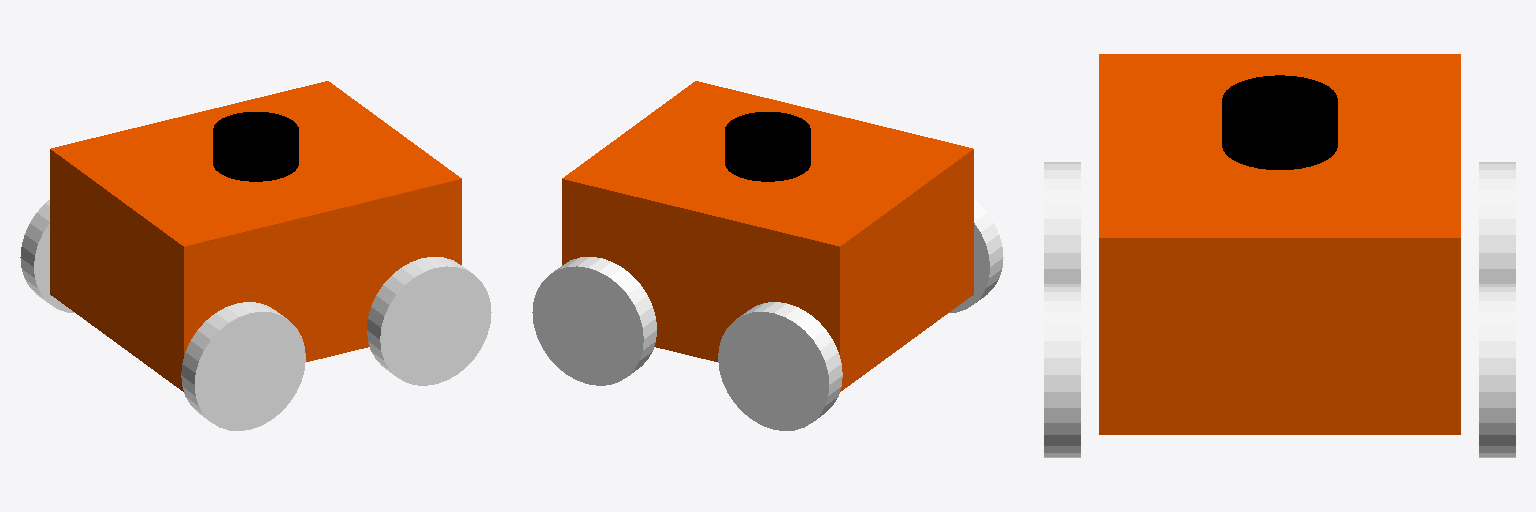
robot.urdf — abot:
<?xml version="1.0"?>
<robot name="abot"> 
<!--********************************xxxxxxxxx********************************-->
<!--********************************base_link********************************-->
	<link name="base_link">
		<visual>
		<origin xyz="0 0 0" rpy="0 0 0"/>
		<geometry>
			<box size="0.30 0.25 0.15"/>
		</geometry>
			<material name="yellow">
				<color rgba="1 0.4 0 0.5"/>
			</material>
		</visual>
	</link>
<!--********************************left_front_link********************************-->
	<link name="left_front_link">
		<visual>
			<origin xyz="0 0 0" rpy="1.5707 0 0"/>
			<geometry>
				<cylinder radius="0.06" length="0.025"/>
			</geometry>
			<material name="white">
				<color rgba="1 1 1 0.9"/>
			</material>
		</visual>
	</link>
	<joint name="left_front_joint" type="continuous">
		<origin xyz="0.10 0.15 -0.05" rpy="0 0 0"/>
		<parent link="base_link"/>
		<child link="left_front_link"/>
		<axis xyz="0 1 0"/>
	</joint>
<!--********************************left_back_link********************************-->
	<link name="left_back_link">
		<visual>
			<origin xyz="0 0 0" rpy="1.5707 0 0"/>
			<geometry>
				<cylinder radius="0.06" length="0.025"/>
			</geometry>
			<material name="white">
				<color rgba="1 1 1 0.9"/>
			</material>
		</visual>
	</link>
	<joint name="left_back_link" type="continuous">
		<origin xyz="-0.10 0.15 -0.05" rpy="0 0 0"/>
		<parent link="base_link"/>
		<child link="left_back_link"/>
		<axis xyz="0 1 0"/>
	</joint>
<!--********************************right_front_link********************************-->
	<link name="right_front_link">
		<visual>
			<origin xyz="0 0 0" rpy="1.5707 0 0"/>
			<geometry>
				<cylinder radius="0.06" length="0.025"/>
			</geometry>
			<material name="white">
				<color rgba="1 1 1 0.9"/>
			</material>
		</visual>
	</link>
	<joint name="right_front_link" type="continuous">
		<origin xyz="0.10 -0.15 -0.05" rpy="0 0 0"/>
		<parent link="base_link"/>
		<child link="right_front_link"/>
		<axis xyz="0 1 0"/>
	</joint>
<!--********************************right_back_link********************************-->
	<link name="right_back_link">
		<visual>
			<origin xyz="0 0 0" rpy="1.5707 0 0"/>
			<geometry>
				<cylinder radius="0.06" length="0.025"/>
			</geometry>
			<material name="white">
				<color rgba="1 1 1 0.9"/>
			</material>
		</visual>
	</link>
	<joint name="right_back_link" type="continuous">
		<origin xyz="-0.10 -0.15 -0.05" rpy="0 0 0"/>
		<parent link="base_link"/>
		<child link="right_back_link"/>
		<axis xyz="0 1 0"/>
	</joint>
<!--********************************laser_link********************************-->
	<link name="laser_link">
		<visual>
			<origin xyz="0 0 0" rpy="0 0 0"/>
			<geometry>
				<cylinder radius="0.04" length="0.040"/>
			</geometry>
			<material name="black">
				<color rgba="0 0 0 0.95"/>
			</material>
		</visual>
	</link>
<!--********************************laser_joint********************************-->
	<joint name="laser_joint" type="fixed">
		<origin xyz="0 0 0.09" rpy="0 0 0"/>
		<parent link="base_link"/>
		<child link="laser_link"/>
	</joint>

</robot>

--- Facts derived from the render (not from the file) ---
The picture shows the robot from 3 angles, left to right: view 1: azimuth 30°, elevation 25°; view 2: azimuth 150°, elevation 25°; view 3: azimuth 270°, elevation 25°; orthographic projection.
Robot: abot — 6 links, 5 joints (4 continuous, 1 fixed); root link base_link; default pose: all joints at 0.
Links seen in each view (by area): view 1: base_link, right_back_link, right_front_link, laser_link, left_back_link; view 2: base_link, left_back_link, left_front_link, laser_link, right_back_link; view 3: base_link, laser_link, left_front_link, right_front_link, left_back_link, right_back_link.
Boxes of the visible links, x1,y1,x2,y2 form: base_link: (50,81,461,391); right_back_link: (181,302,305,430); right_front_link: (367,257,491,385); laser_link: (213,112,298,181); left_back_link: (20,200,74,312); base_link: (562,81,973,391); left_back_link: (718,302,842,430); left_front_link: (532,257,656,385); laser_link: (725,112,810,181); right_back_link: (949,200,1003,312); base_link: (1099,54,1460,434); laser_link: (1222,75,1337,169); left_front_link: (1479,284,1515,457); right_front_link: (1044,284,1080,457); left_back_link: (1479,162,1515,283); right_back_link: (1044,162,1080,283).
Size in the robot's own frame: 0.32 by 0.325 by 0.22 metres.
Geometry: primitives only (box / cylinder / sphere), no mesh files.